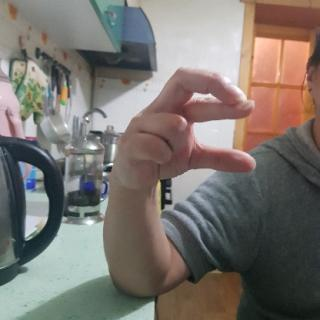DHELL: (103, 56, 264, 200)
